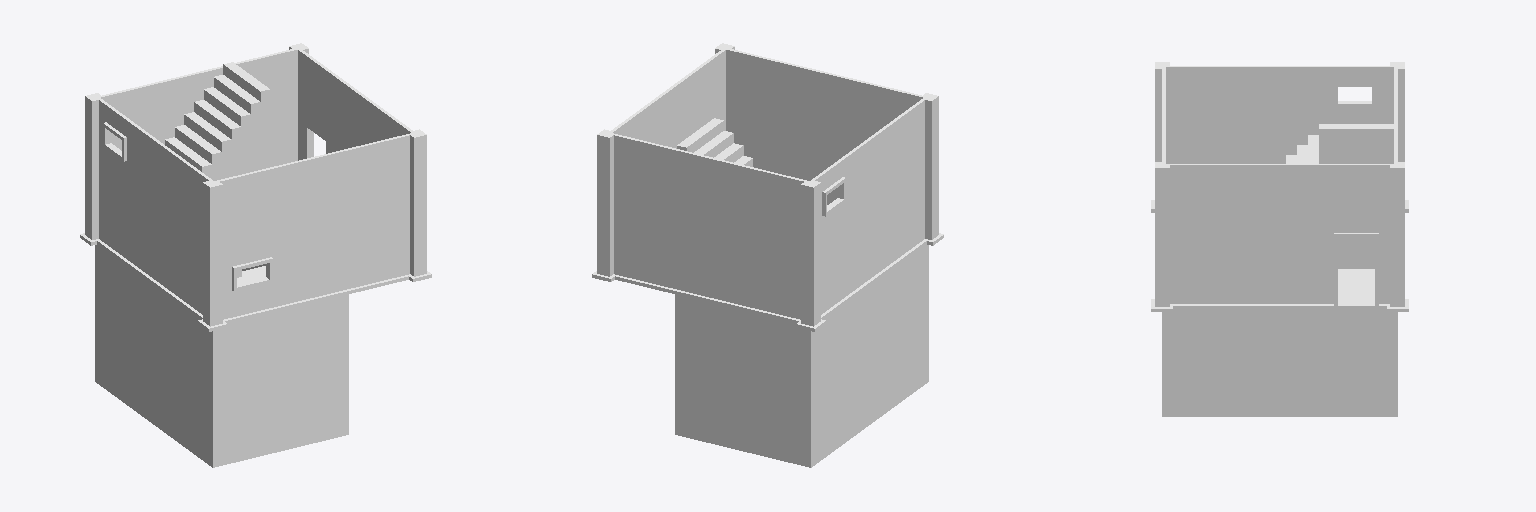
The model's file is stairs4_wall_half_stairs2.obj.
3 renders of one model, left to right at view 1: azimuth 30°, elevation 25°; view 2: azimuth 150°, elevation 25°; view 3: azimuth 270°, elevation 25°, orthographic.
Visible parts, largest first — view 1: stairs4_wall_half_stairs2; view 2: stairs4_wall_half_stairs2; view 3: stairs4_wall_half_stairs2.
Part boxes in pixels (bbox=[...]): stairs4_wall_half_stairs2: bbox=[80, 43, 431, 467]; stairs4_wall_half_stairs2: bbox=[592, 43, 943, 467]; stairs4_wall_half_stairs2: bbox=[1151, 62, 1408, 416].
Bounding box in the file's own units: 69 × 85 × 69.